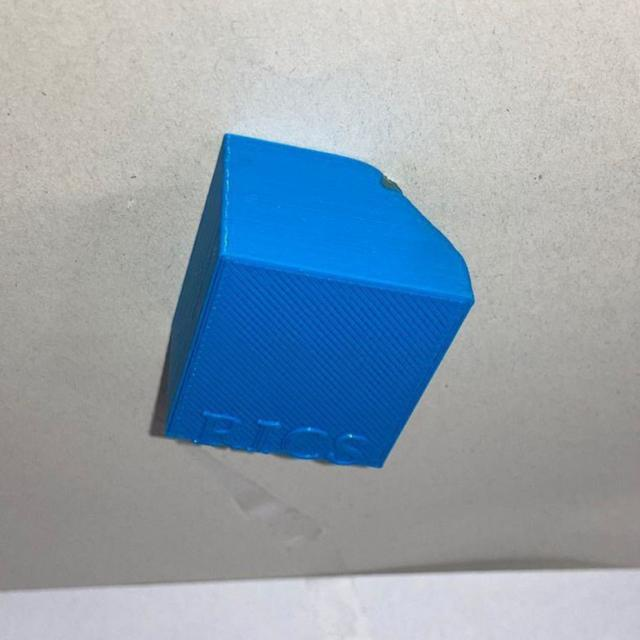Warping: (368, 170, 457, 256)
